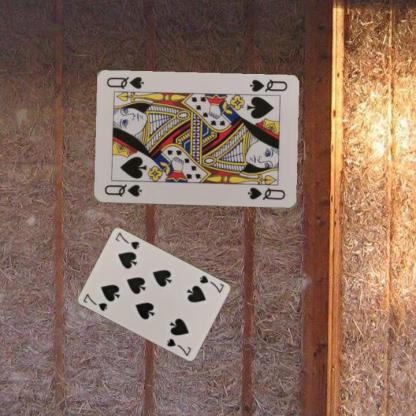7s: (196, 273, 225, 294), (80, 291, 108, 312)
Qs: (247, 76, 288, 94), (102, 182, 142, 198)
